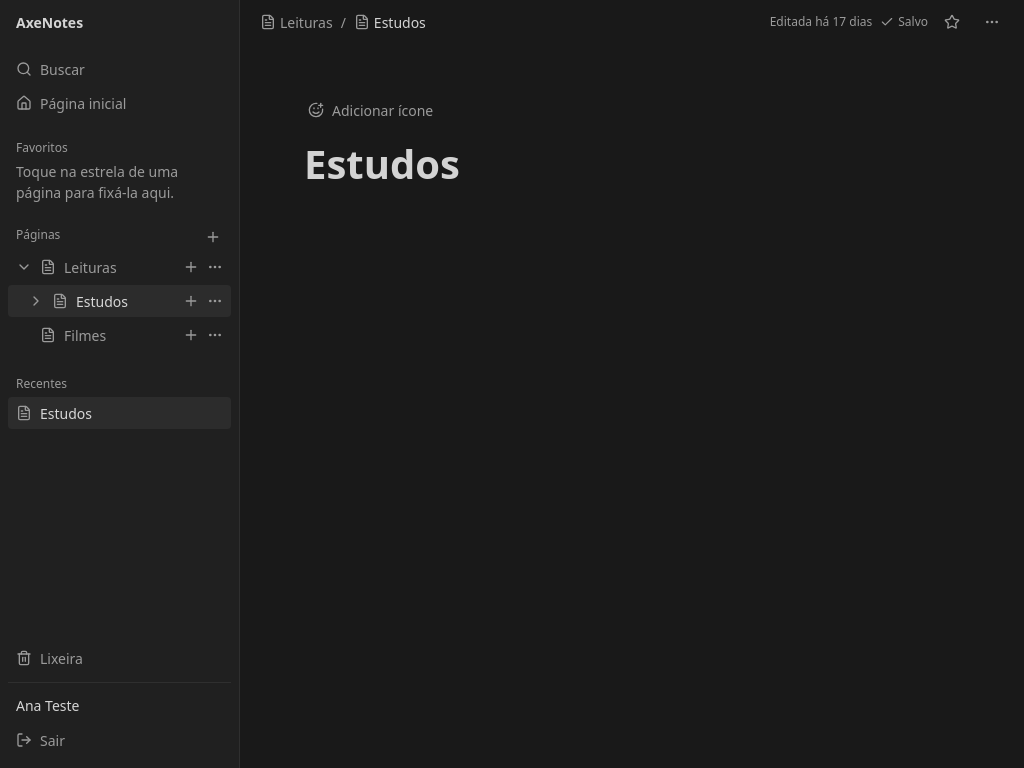
Scenario: mover para a lixeira pela árvore › goes to the parent page BEFORE touching the cache when the open page is trashed
Expected: the text box named "Título da página" holds "Estudos", x1=304 y1=140 x2=960 y2=191
Click the button named "Mais ações de Estudos".
click(215, 301)  # box x1=203 y1=287 x2=227 y2=315
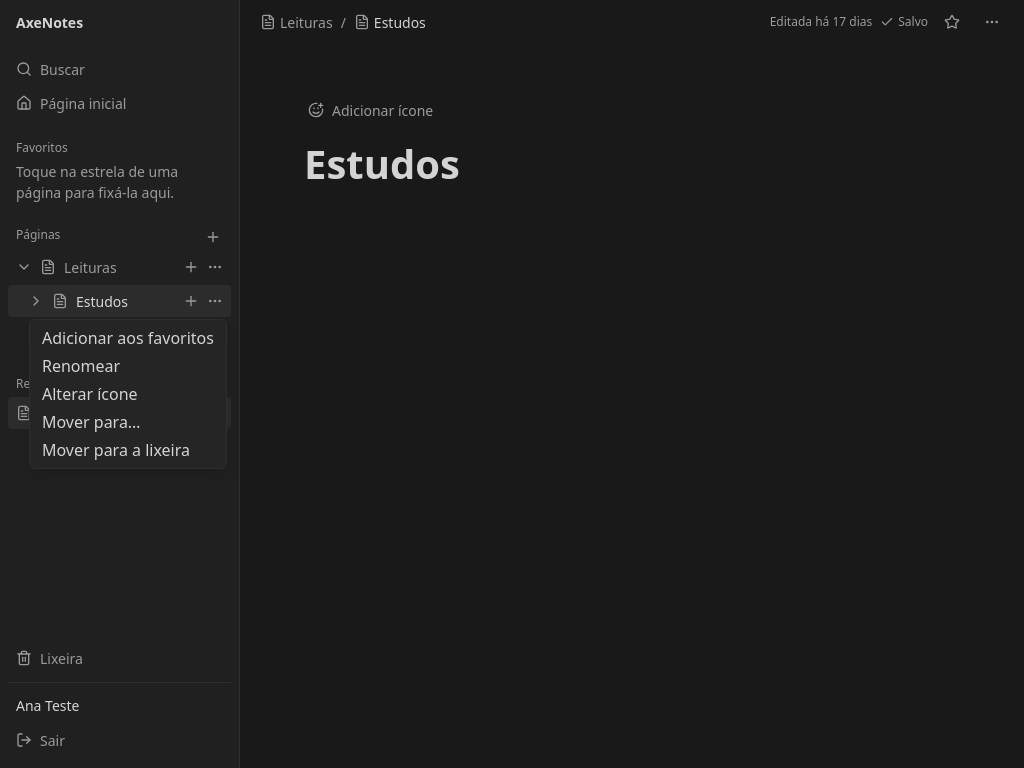
Click the menu item "Mover para a lixeira".
click(116, 450)  # box x1=42 y1=439 x2=190 y2=461
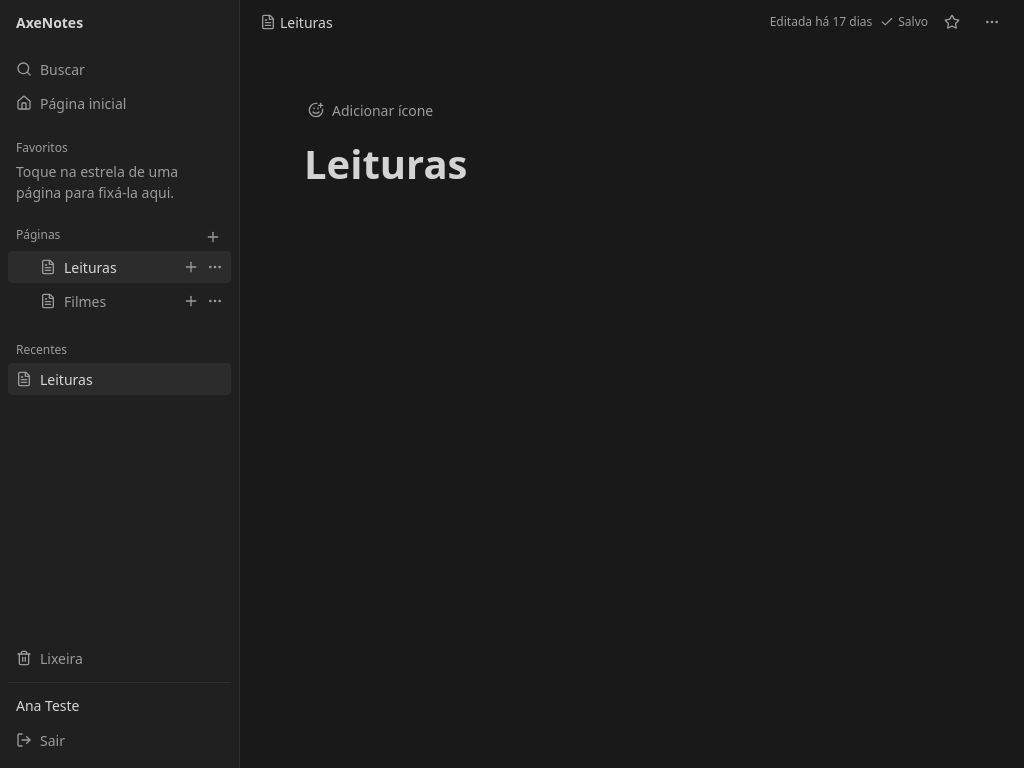
Expected: the text box named "Título da página" holds "Leituras", x1=304 y1=140 x2=960 y2=191
Expected: the link "Estudos" is gone
